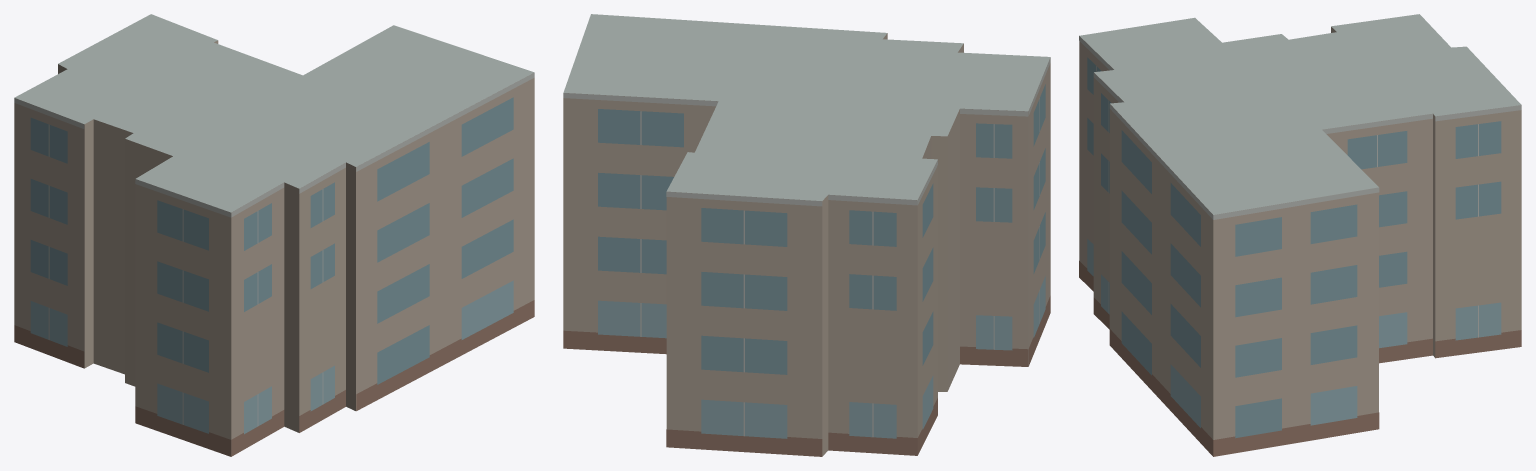
File: survey-upis-32575212.glb
3 views of the same model, side by side, from view 1: azimuth 30°, elevation 25°; view 2: azimuth 150°, elevation 25°; view 3: azimuth 270°, elevation 25° (orthographic). The views are drawn at different scales.
Parts seen in each view (by area): view 1: survey-upis-32575212.tmp; view 2: survey-upis-32575212.tmp; view 3: survey-upis-32575212.tmp.
Part boxes in pixels (x1=…): survey-upis-32575212.tmp: x1=14, y1=14, x2=534, y2=456; survey-upis-32575212.tmp: x1=563, y1=14, x2=1050, y2=456; survey-upis-32575212.tmp: x1=1079, y1=14, x2=1521, y2=456.
Bounding box in the file's own units: 20.96 × 11.75 × 19.49.
